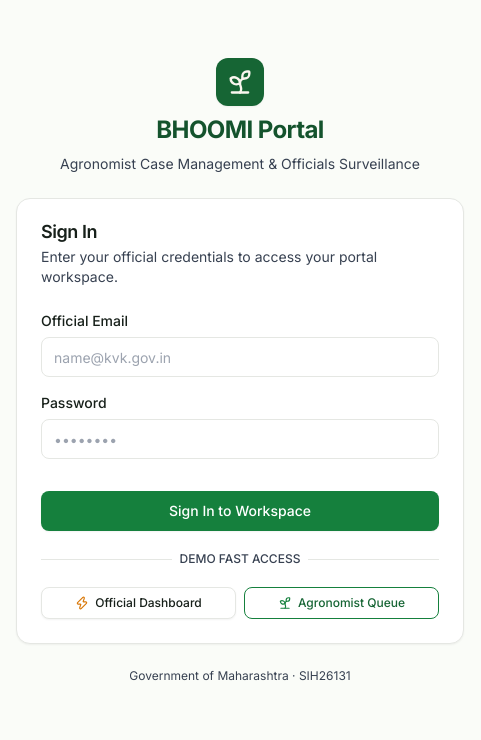
Test: BHOOMI Phase 1 — Complete Auth Matrix & Routing Tests › CASE 8: Displays authentication error banner on invalid credentials and keeps user unauthenticated
The image size is (481, 740).
Type "wrong@kvk.gov.in" into the field labelled "Official Email".
click(240, 357); type("wrong@kvk.gov.in")  # box [41,337,439,377]
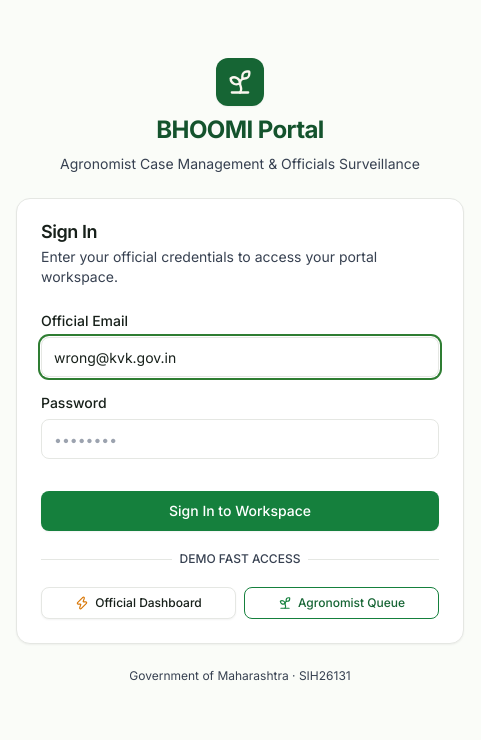
Type "wrongpassword" into the password field labelled "Password".
click(240, 439); type("wrongpassword")  # box [41,419,439,459]
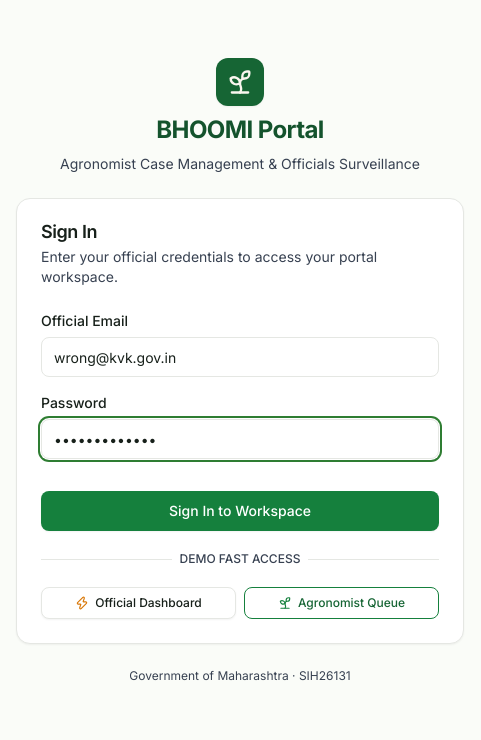
Click the button "Sign In to Workspace".
click(240, 511)  # box [41,491,439,531]
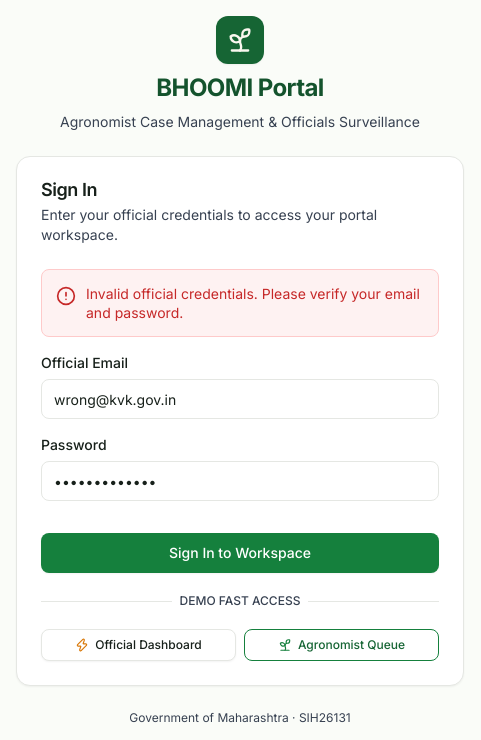
Now the text "Invalid official credentials. Please verify your email and password." is shown, box [86,284,424,322]
